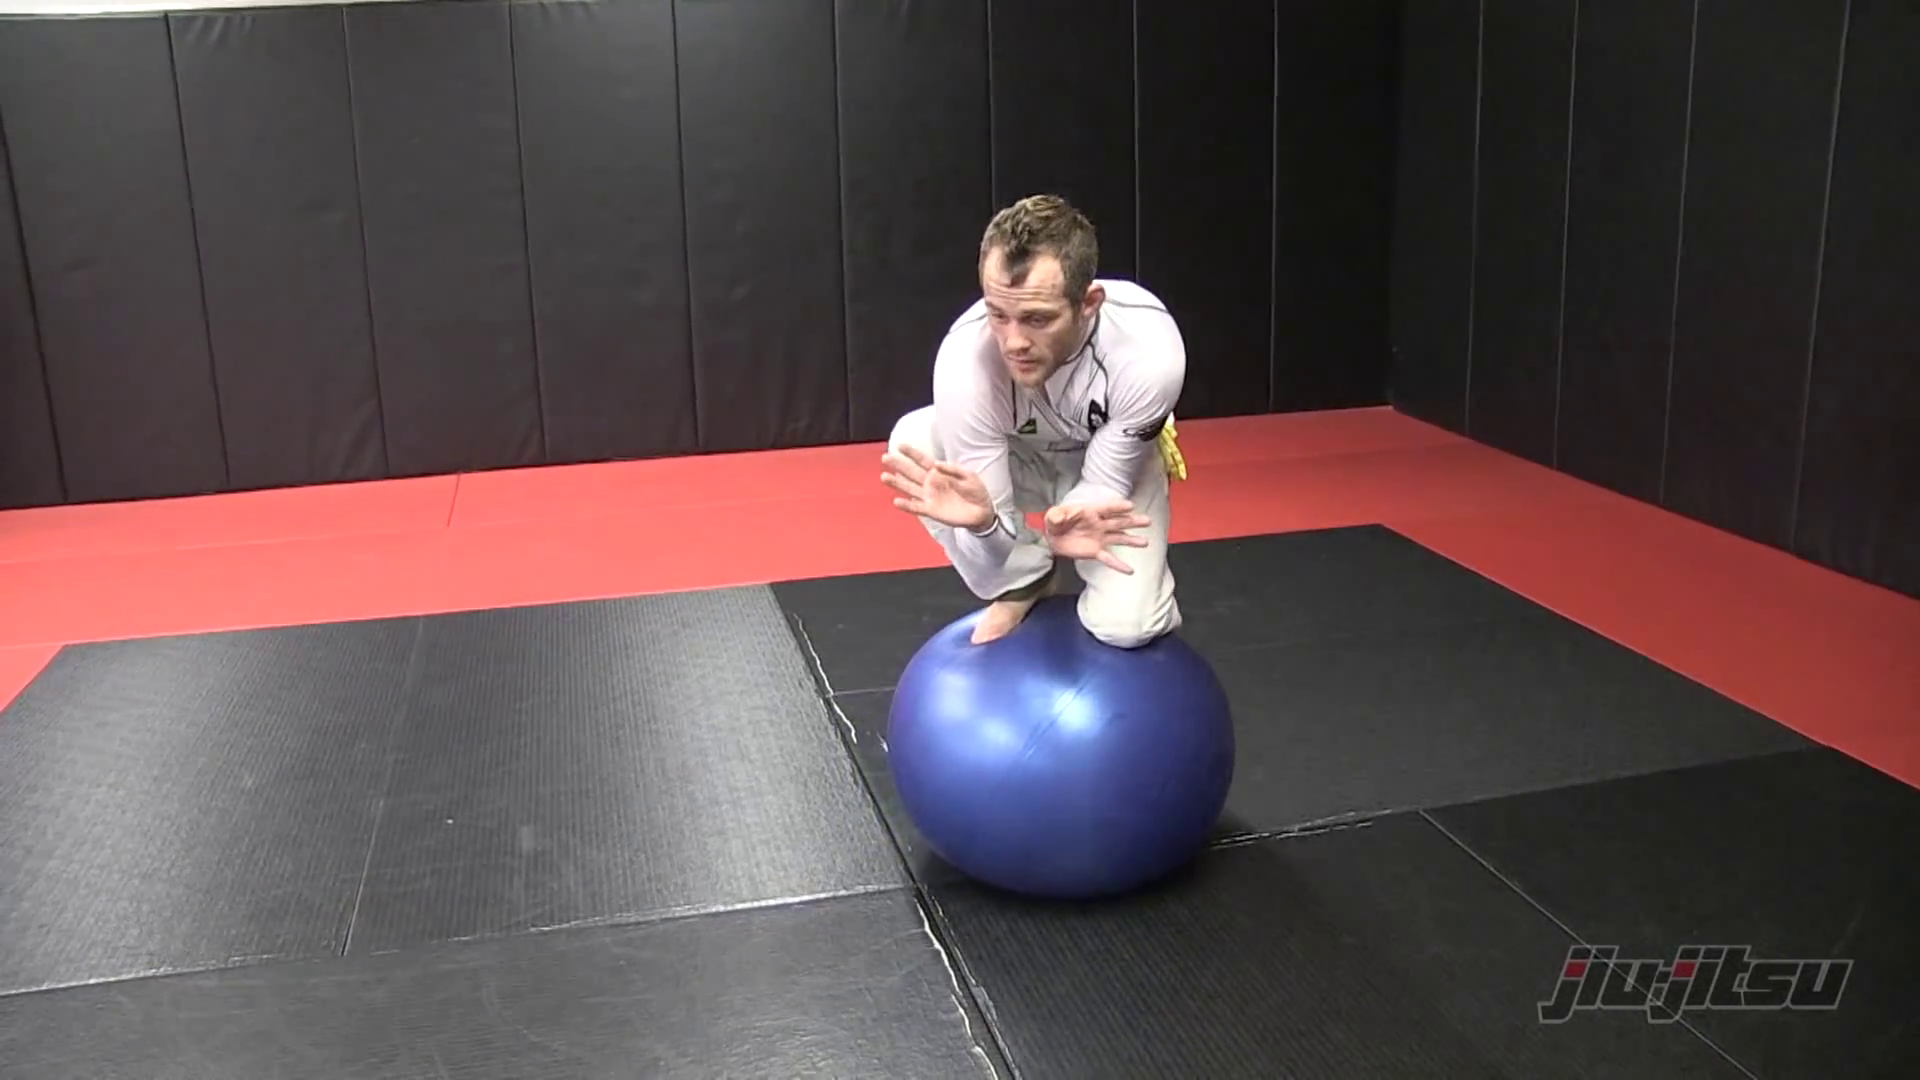yogaball: (881, 595, 1262, 922)
